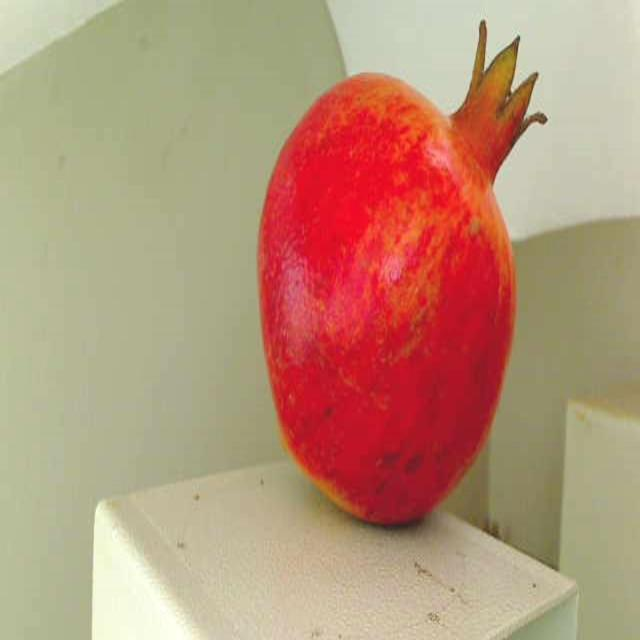pomegranate: (245, 0, 553, 538)
